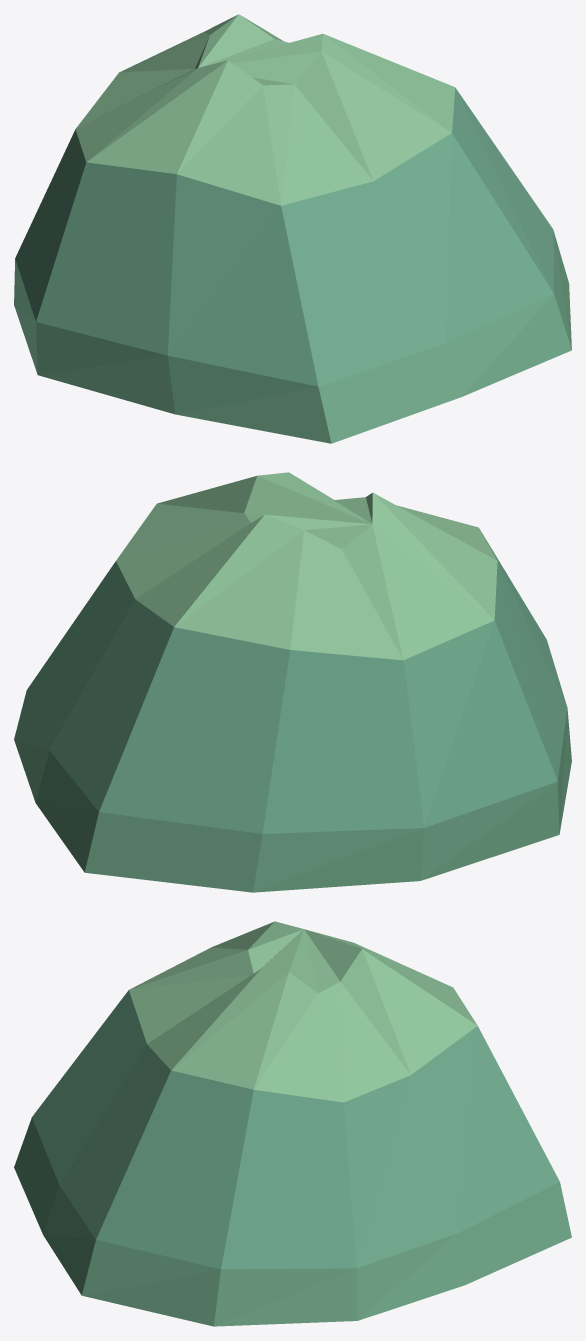
File: Butte.fbx
The picture shows the model from 3 angles, top to bottom: view 1: azimuth 30°, elevation 25°; view 2: azimuth 150°, elevation 25°; view 3: azimuth 270°, elevation 25°; orthographic projection. The views are drawn at different scales.
Parts seen in each view (by area): view 1: Butte; view 2: Butte; view 3: Butte.
Part boxes in pixels (x1,y1,x2,y2): Butte: [14, 14, 571, 443]; Butte: [14, 472, 571, 892]; Butte: [14, 921, 571, 1326].
Size of the model in its own units: 199 by 106 by 205.
1 material, 1 textured.
